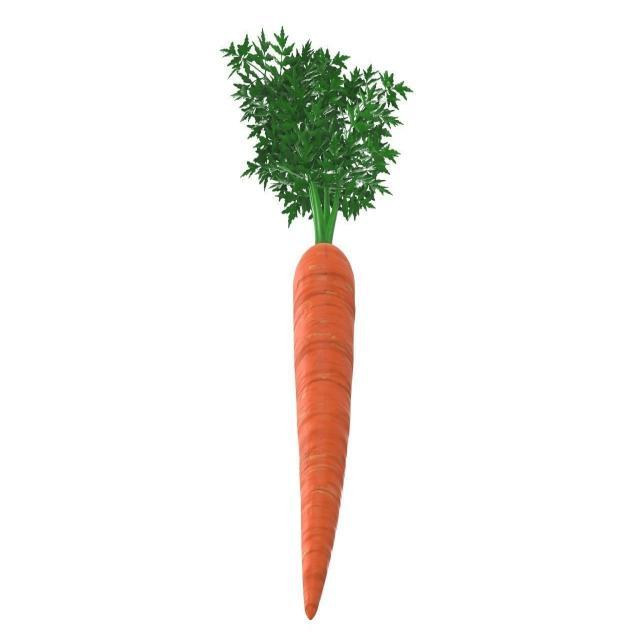carrot: (291, 241, 359, 622)
